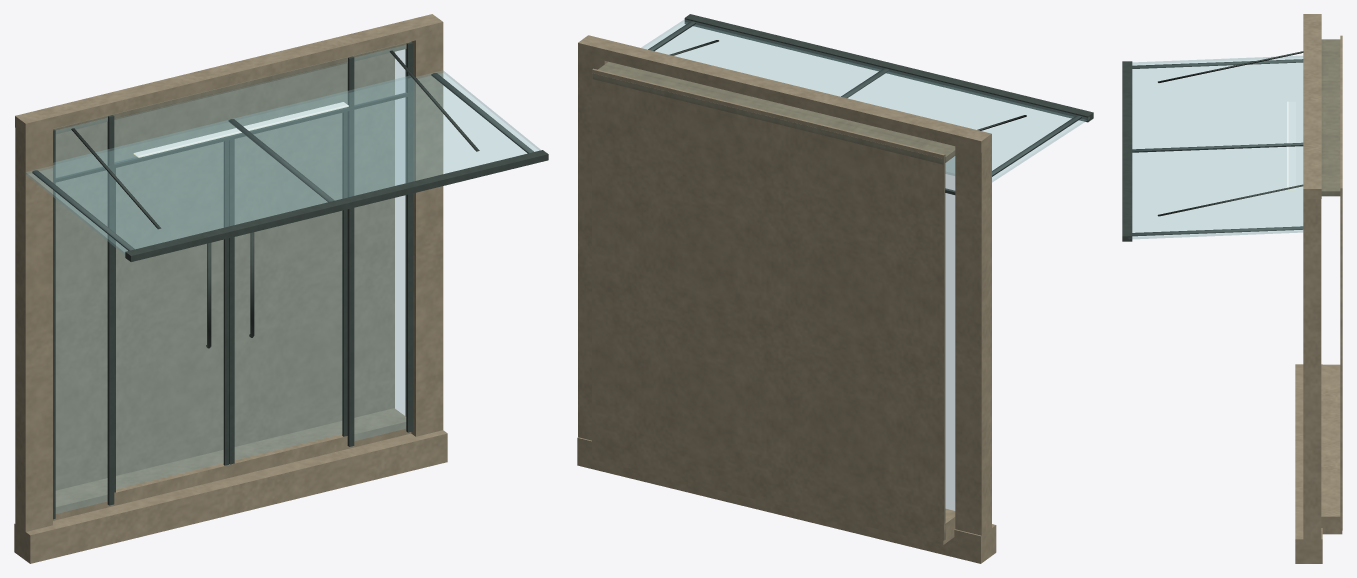
The model's file is modern-lobby-bay.lod1.glb.
3 renders of one model, left to right at view 1: azimuth 30°, elevation 25°; view 2: azimuth 150°, elevation 25°; view 3: azimuth 270°, elevation 25°, orthographic. The views are drawn at different scales.
Visible parts, largest first — view 1: modern-lobby-bay; view 2: modern-lobby-bay; view 3: modern-lobby-bay.
Boxes of the visible parts, <box> form: modern-lobby-bay: <box>14,14,548,563</box>; modern-lobby-bay: <box>577,14,1093,563</box>; modern-lobby-bay: <box>1122,14,1342,563</box>.
Size of the model in its own units: 3.2 by 3.2 by 1.7.
Materials: 3 (1 with a texture image).
